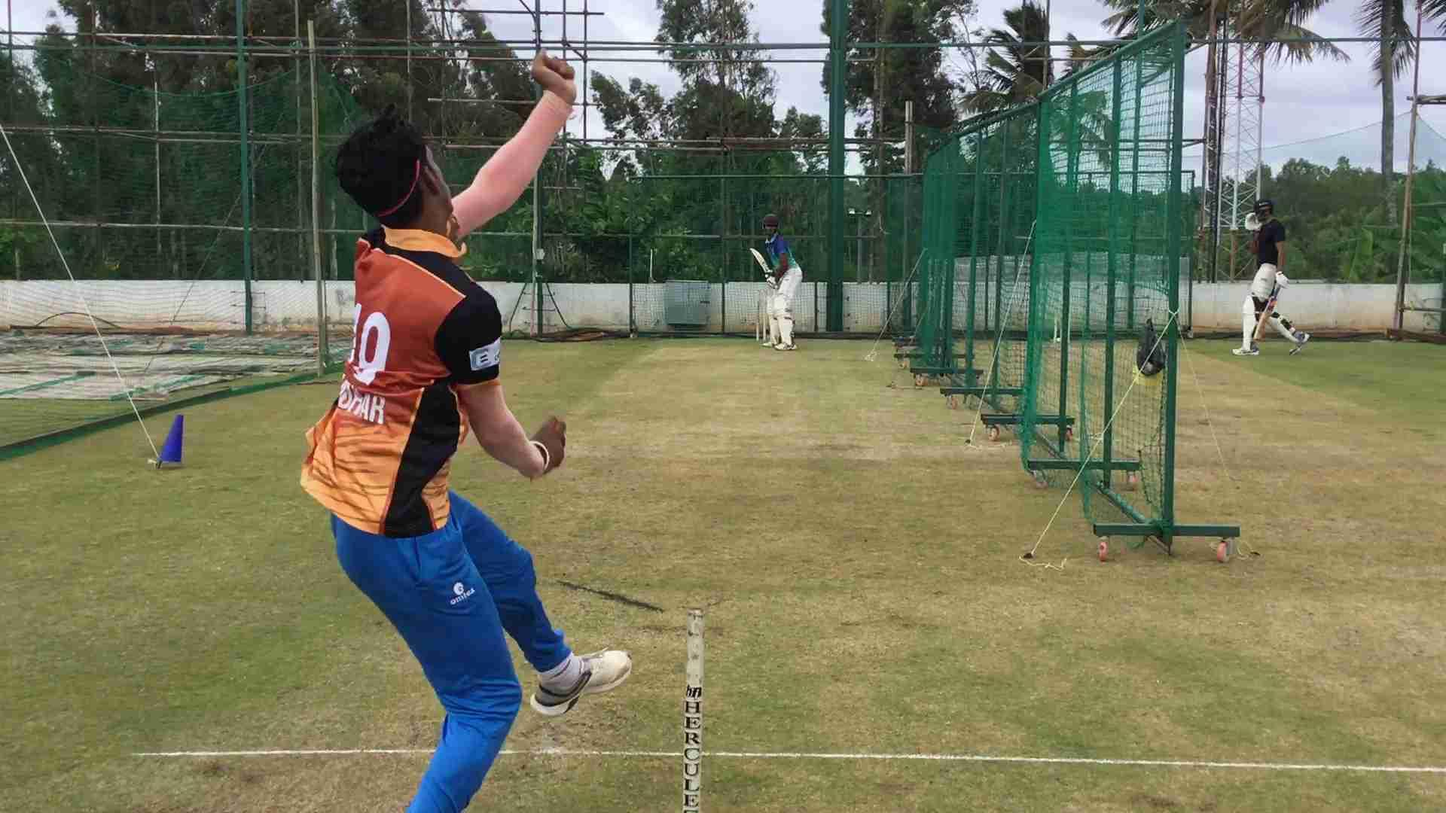batsman: (754, 208, 808, 355)
